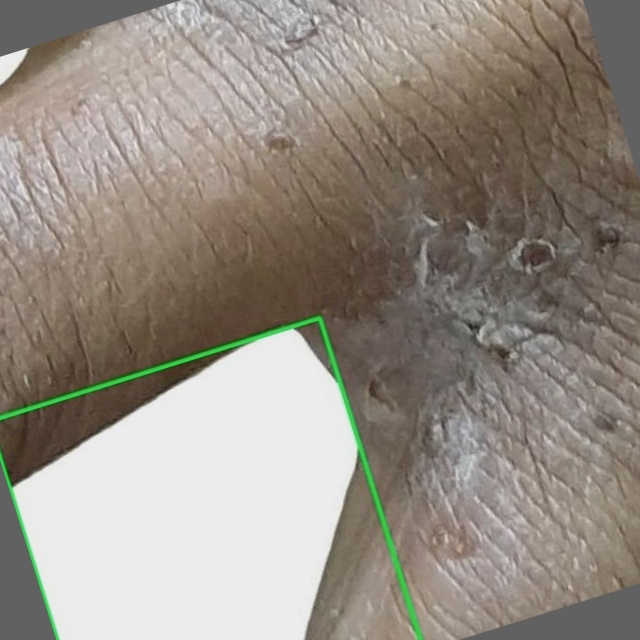Scabies: (0, 317, 420, 639)
